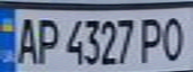2: (100, 16, 121, 66)
3: (81, 16, 103, 66)
4: (63, 15, 84, 66)
7: (115, 16, 139, 65)
A: (9, 14, 39, 65)
O: (157, 12, 190, 63)
P: (136, 13, 169, 64), (33, 15, 60, 65)
